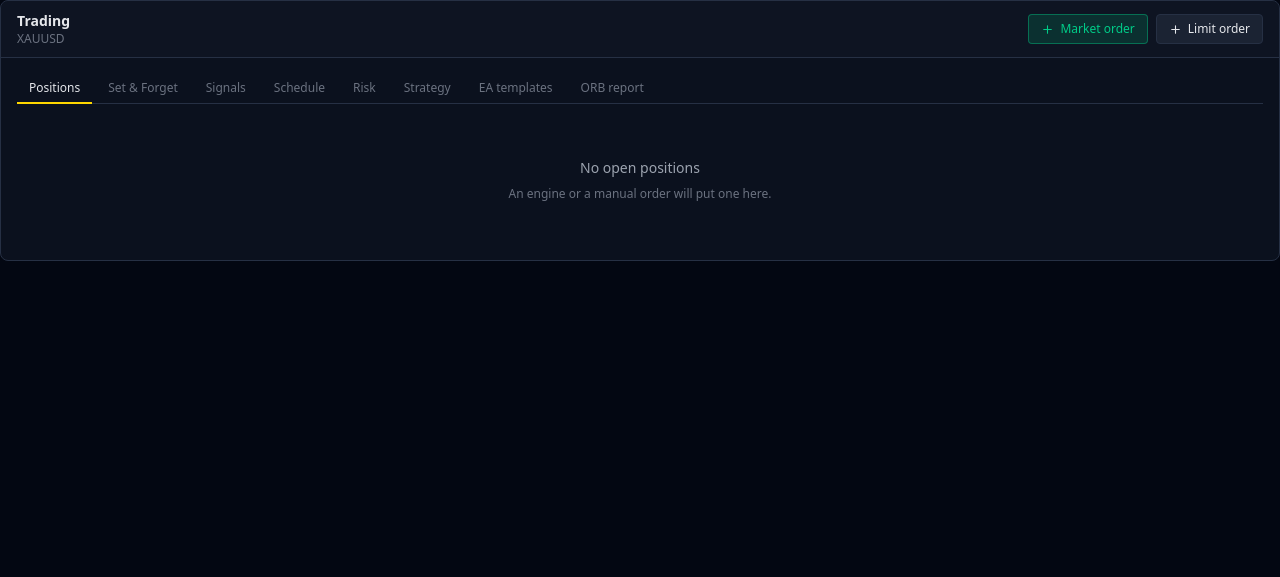
Scenario: EA templates › saves an edited template and reports that it was pushed
Click the tab "EA templates". click: click(516, 89)
box: [467,74,564,104]
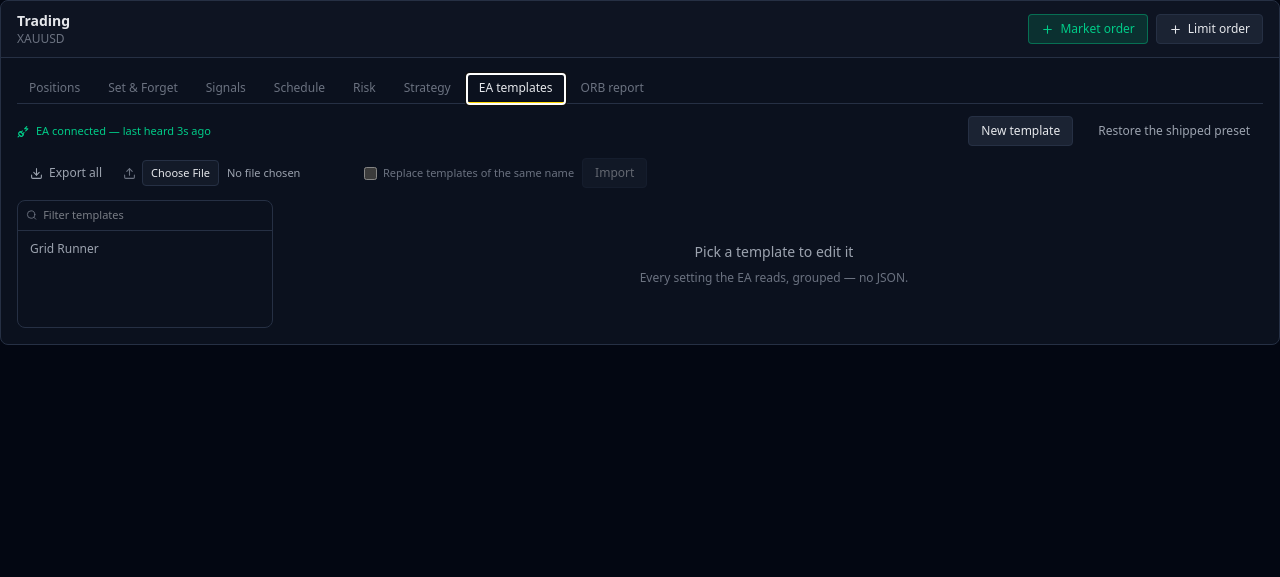
Click the button "Grid Runner". click: click(145, 248)
box: [22,234,268,262]
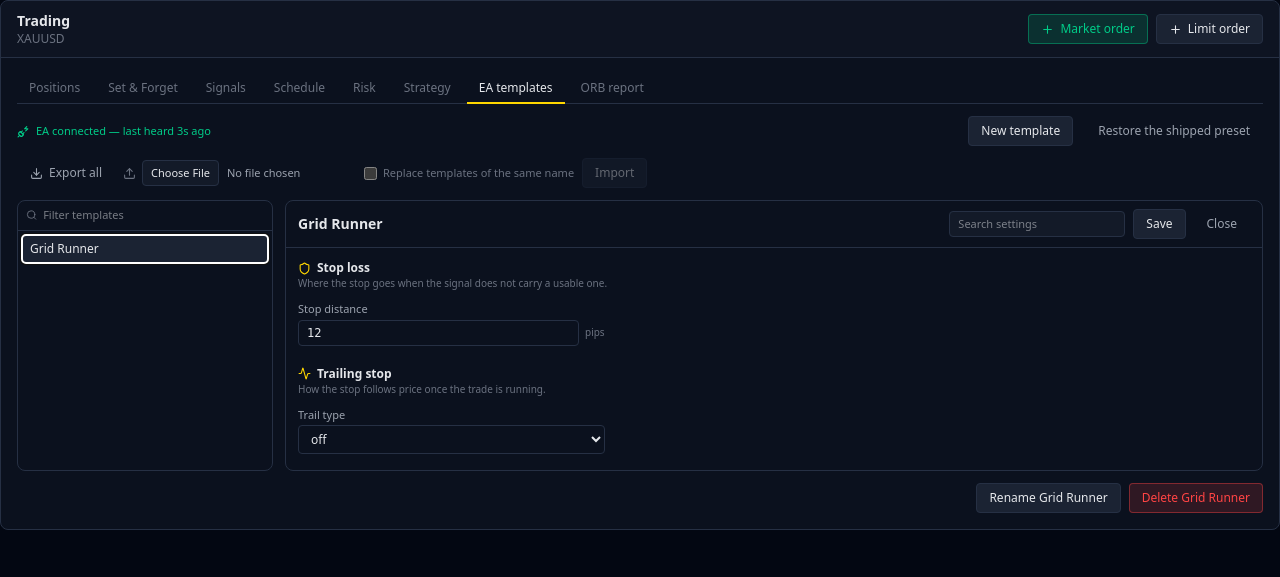
Click the button "Save". click: click(1159, 224)
box: [1133,209,1186,239]
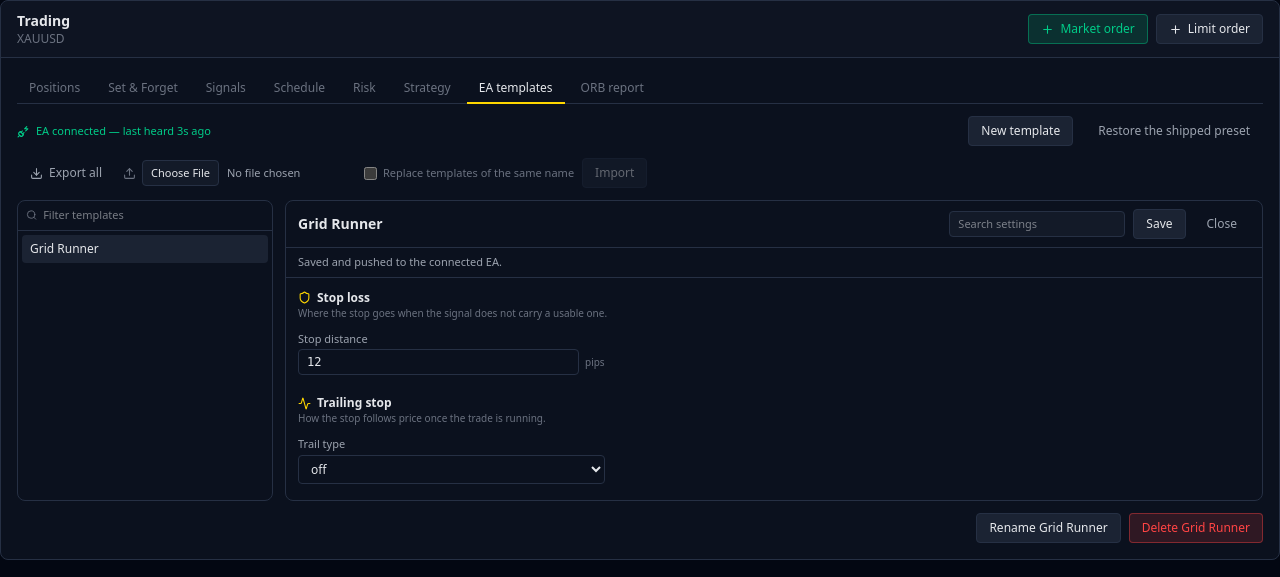
Expected: the message shows "pushed to the connected EA", [298,254,502,269]
